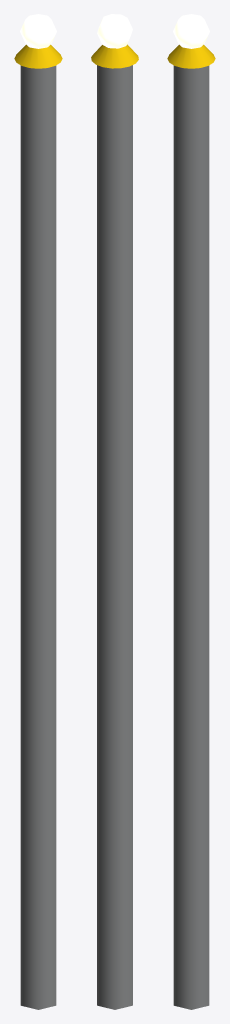
Rendered from RunwayLight01-WarmWhite_LOD3.gltf.
3 views of the same model, side by side, from view 1: azimuth 90°, elevation 25°; view 2: azimuth 150°, elevation 25°; view 3: azimuth 270°, elevation 25° (orthographic).
Parts seen in each view (by area): view 1: Light; view 2: Light; view 3: Light.
Part boxes in pixels (x1,y1,x2,y2): Light: [14, 14, 62, 1009]; Light: [91, 14, 138, 1009]; Light: [167, 14, 215, 1009].
Size of the model in its own units: 0.4661 by 10.52 by 0.4661.
